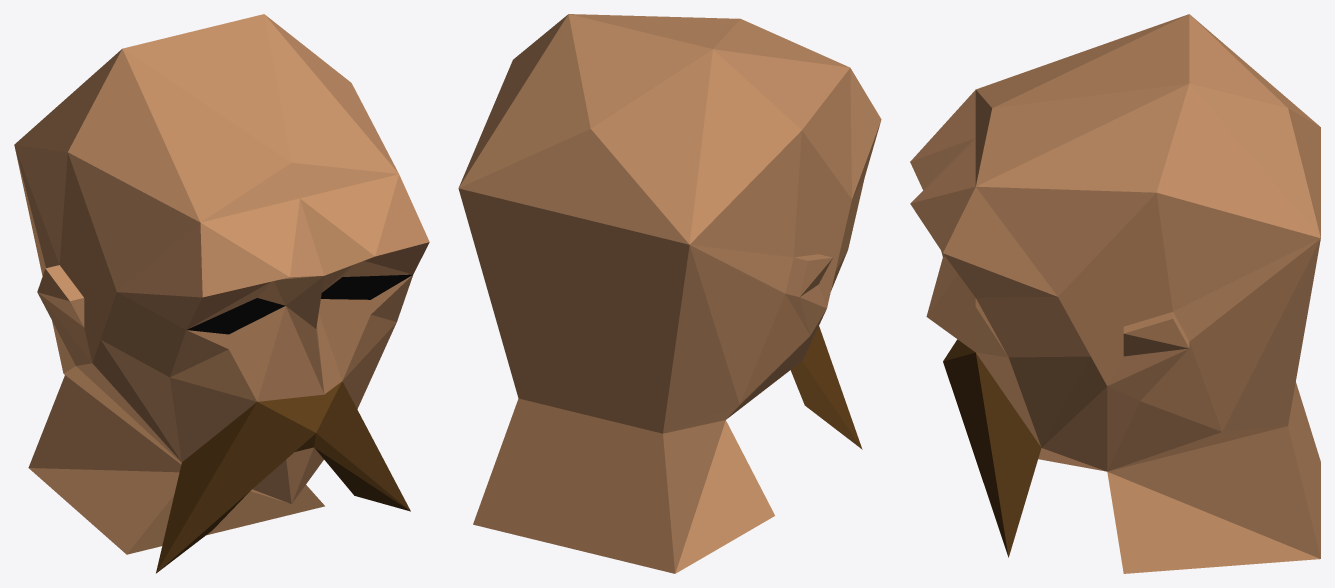
Rendered from model_2972_npc.obj.
3 views of the same model, side by side, from view 1: azimuth 30°, elevation 25°; view 2: azimuth 150°, elevation 25°; view 3: azimuth 270°, elevation 25° (orthographic).
Visible parts, largest first — view 1: 2972; view 2: 2972; view 3: 2972.
Boxes of the visible parts, bbox=[...] form: 2972: bbox=[14, 14, 429, 573]; 2972: bbox=[458, 14, 881, 573]; 2972: bbox=[910, 14, 1320, 573].
Size of the model in its own units: 22 by 32 by 25.
